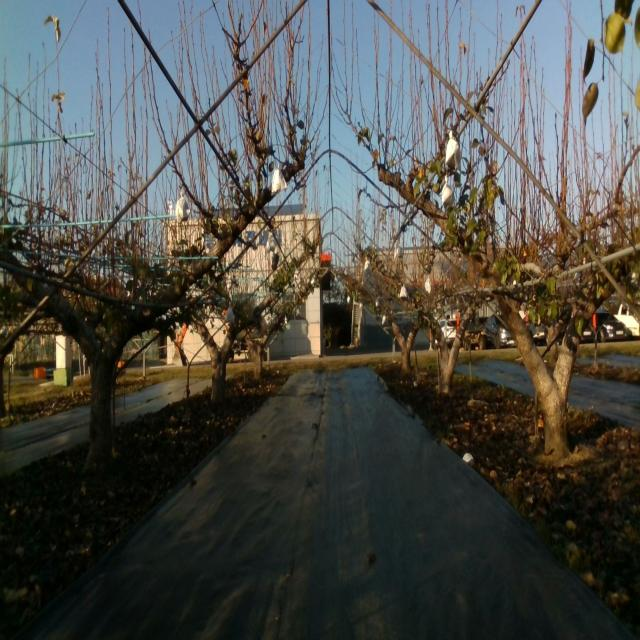pearbags: (446, 132, 461, 170), (176, 190, 192, 222), (272, 165, 288, 195), (441, 174, 454, 208), (224, 306, 235, 324)
